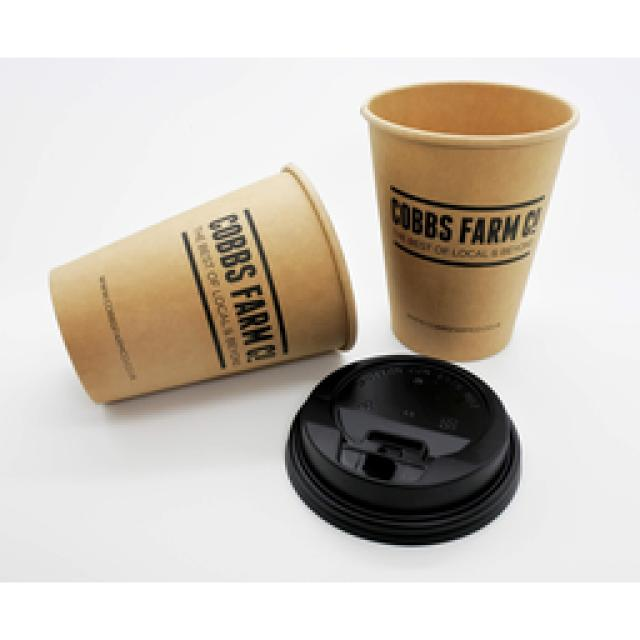paper_cups: (47, 160, 367, 412), (364, 80, 578, 367)
